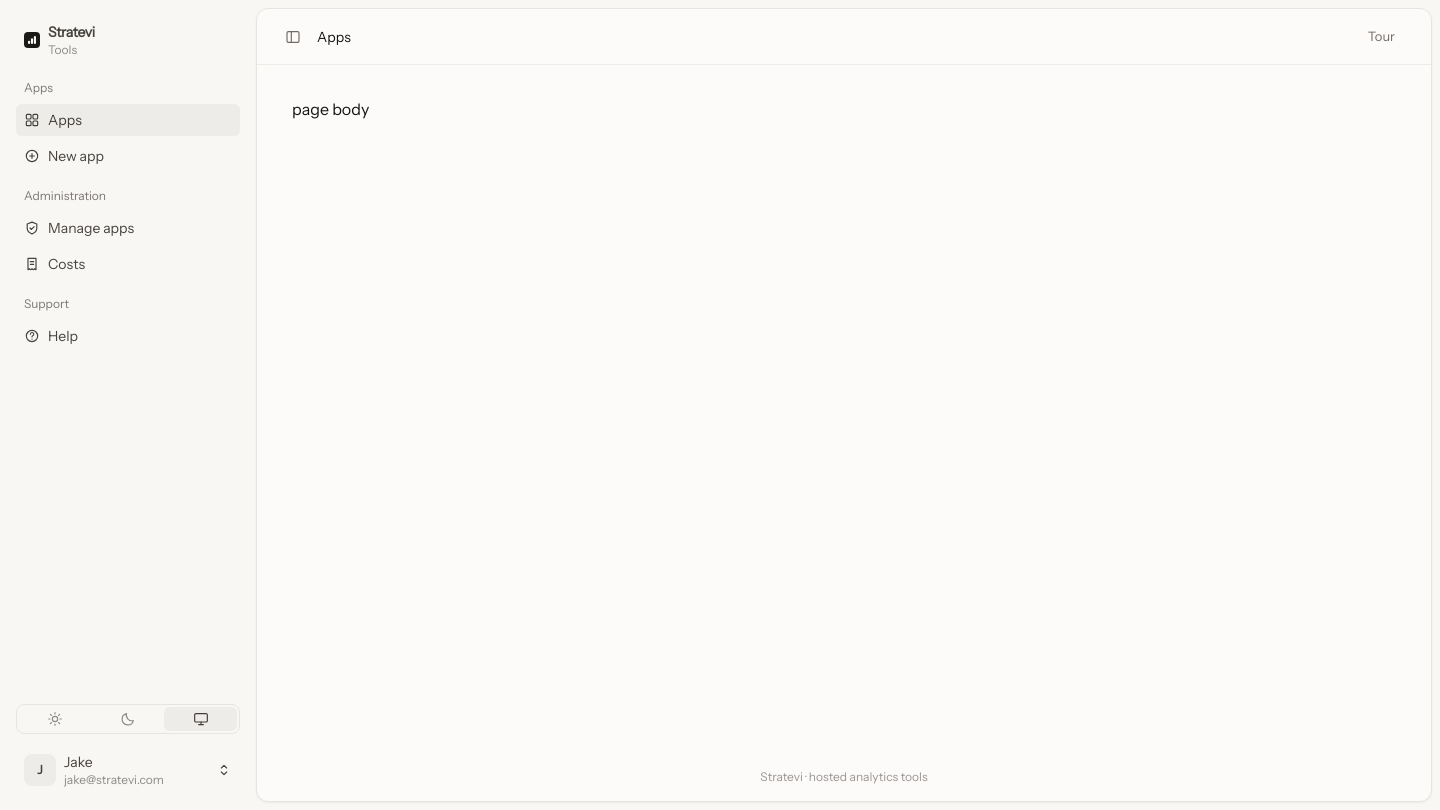
Test case: the Tour button, wired into the real header › sits in the header and opens the tour on click
Expected: the header "Tour" is shown, [257,9,1431,65]
Click the button "Tour" at (1381, 36), box [1356,20,1407,52]
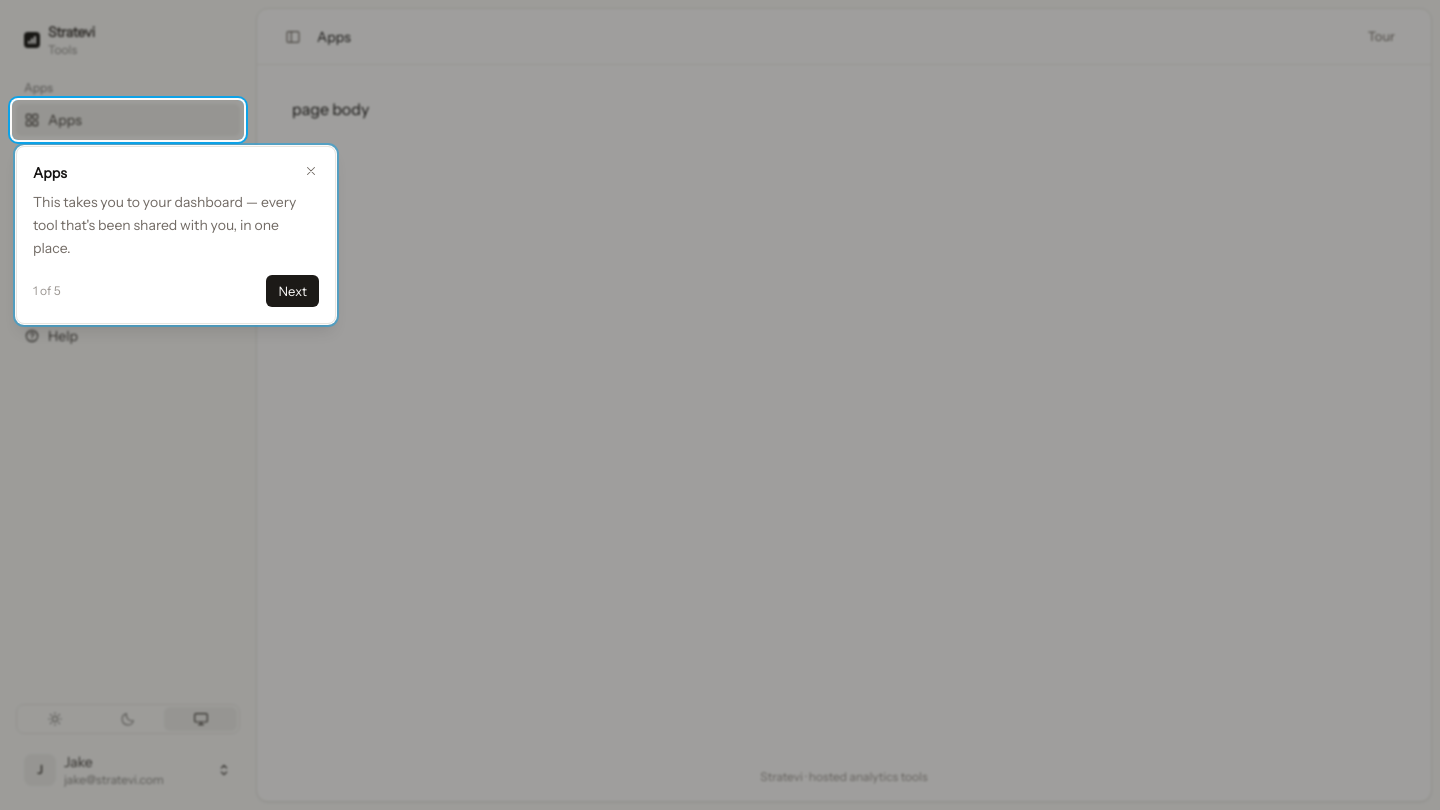
Now the dialog is shown, box [16,146,336,324]
